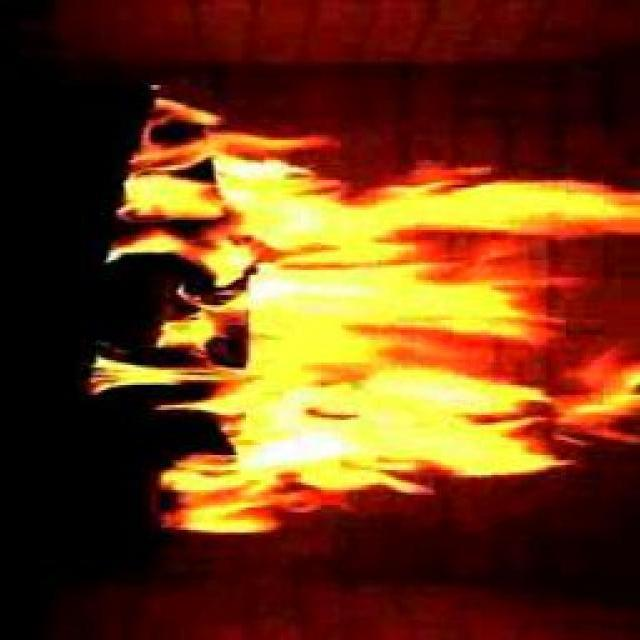Fire: (156, 184, 579, 503)
